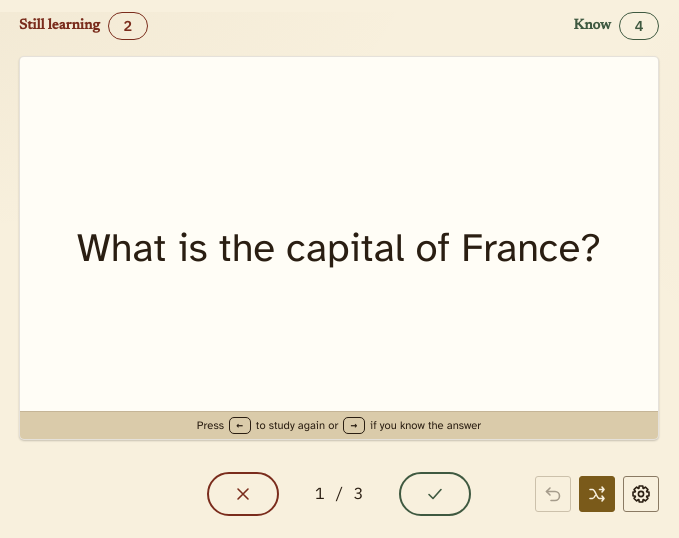
Test: FlashcardSession grade animation › shows the colored badge and an already-incremented tally, then grades when the animation ends
Click the button named "Know" at (435, 494), box [399,472,471,516]
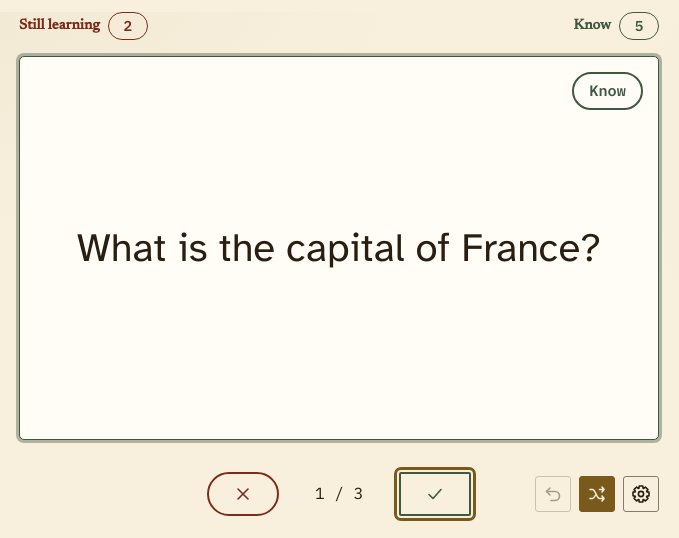
Expected: the text with test id "flashcard-grade-badge" reads "Know", [589,80,626,100]
Expected: the text with test id "flashcard-tally-know" reads "5", [635,16,643,35]
